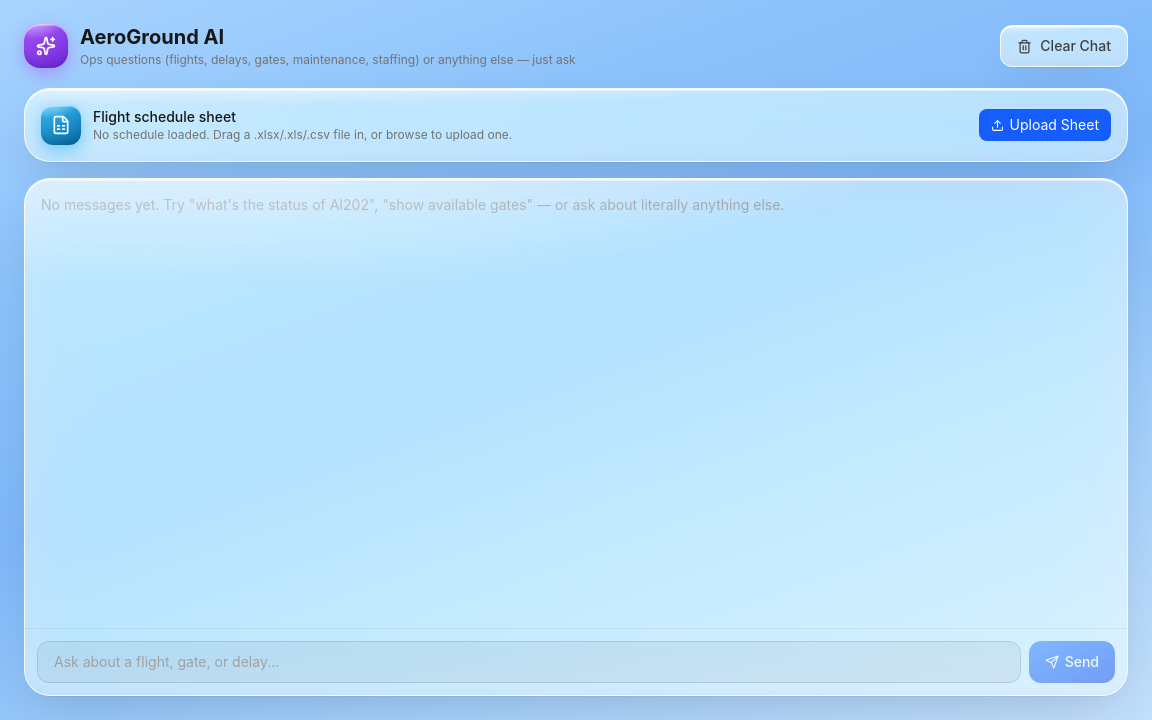
Test: Chatbot › sends a message and displays the assistant reply
Expected: the text "No messages yet" is shown, [41, 196, 784, 213]
Type "status of AI202" into the field with placeholder "Ask about a flight, gate, or delay...".
click(529, 662); type("status of AI202")  # box [37, 641, 1021, 683]
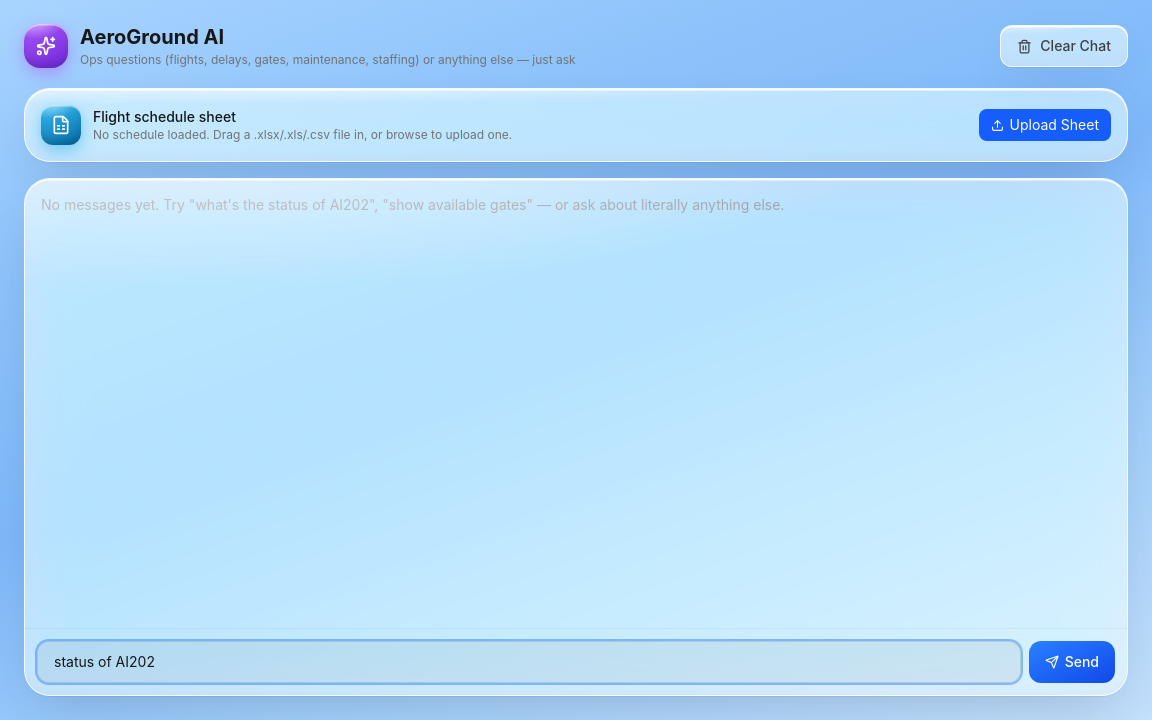
Click the button "Send".
click(1072, 662)  # box [1029, 641, 1115, 683]
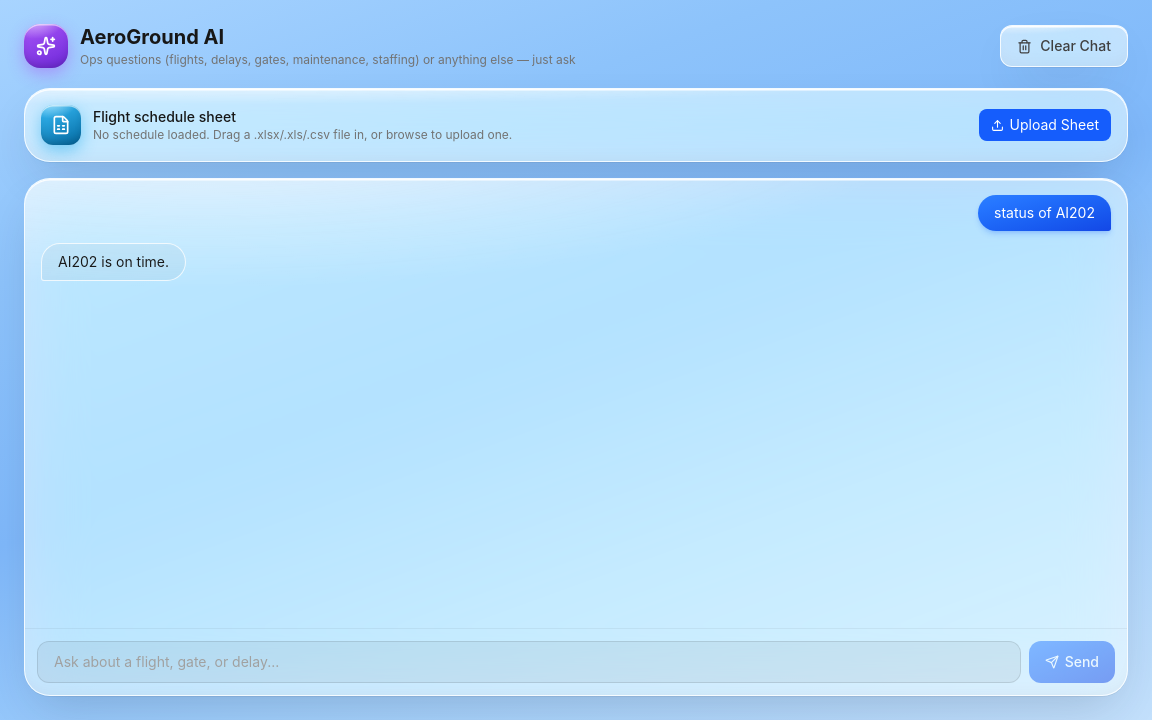
Now the text "AI202 is on time." is shown, box [41, 243, 186, 281]
